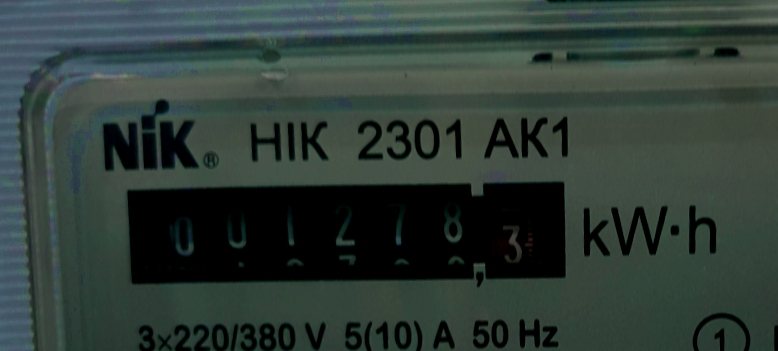0: (166, 209, 197, 258), (220, 202, 247, 250)
1: (278, 199, 298, 248)
2: (327, 199, 356, 247), (494, 192, 521, 215)
3: (495, 218, 523, 263)
7: (382, 197, 406, 247)
8: (436, 196, 464, 244)
screen: (100, 147, 585, 315)
